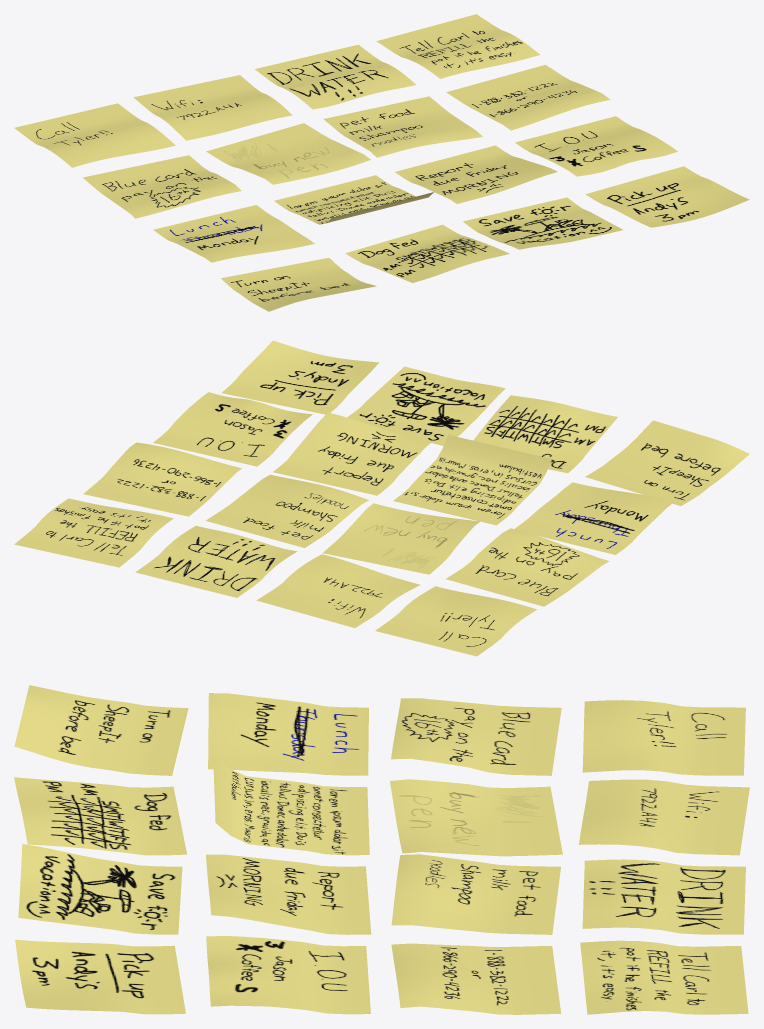
Rendered from stickynote.gltf.
3 views of the same model, one above another, from view 1: azimuth 30°, elevation 25°; view 2: azimuth 150°, elevation 25°; view 3: azimuth 270°, elevation 25° (orthographic). The views are drawn at different scales.
Parts seen in each view (by area): view 1: StickyNote.013, StickyNote.015, StickyNote.012, StickyNote.014, StickyNote.011, StickyNote.003, StickyNote.009, StickyNote.008, StickyNote.010, StickyNote.007, StickyNote.004, StickyNote.006 (+4 smaller); view 2: StickyNote.005, StickyNote, StickyNote.006, StickyNote.002, StickyNote.008, StickyNote.011, StickyNote.007, StickyNote.010, StickyNote.004, StickyNote.003, StickyNote.009, StickyNote.014 (+4 smaller); view 3: StickyNote.004, StickyNote.009, StickyNote.010, StickyNote.002, StickyNote.015, StickyNote.012, StickyNote.014, StickyNote, StickyNote.007, StickyNote.003, StickyNote.013, StickyNote.001 (+4 smaller).
Boxes of the visible parts, x1,y1,x2,y2 form: StickyNote.013: (133, 75, 292, 140); StickyNote.015: (376, 14, 540, 78); StickyNote.012: (14, 103, 175, 167); StickyNote.014: (255, 44, 416, 109); StickyNote.011: (446, 65, 610, 130); StickyNote.003: (585, 166, 749, 227); StickyNote.009: (206, 123, 370, 184); StickyNote.008: (82, 155, 241, 218); StickyNote.010: (323, 96, 482, 157); StickyNote.007: (515, 116, 677, 176); StickyNote.004: (153, 205, 314, 262); StickyNote.006: (395, 145, 557, 203); StickyNote.005: (393, 434, 551, 525); StickyNote: (585, 420, 749, 505); StickyNote.006: (273, 412, 432, 495); StickyNote.002: (347, 366, 505, 445); StickyNote.008: (446, 528, 609, 606); StickyNote.011: (83, 442, 241, 516); StickyNote.007: (153, 392, 312, 466); StickyNote.010: (205, 474, 368, 547); StickyNote.004: (514, 482, 674, 554); StickyNote.003: (221, 340, 379, 414); StickyNote.009: (322, 503, 479, 574); StickyNote.014: (135, 526, 297, 597); StickyNote.004: (208, 693, 368, 775); StickyNote.009: (390, 779, 562, 856); StickyNote.010: (391, 854, 560, 934); StickyNote.002: (18, 844, 182, 934); StickyNote.015: (580, 940, 748, 1014); StickyNote.012: (582, 700, 745, 775); StickyNote.014: (582, 859, 745, 934); StickyNote: (14, 685, 188, 775); StickyNote.007: (206, 936, 370, 1014); StickyNote.003: (15, 939, 185, 1014); StickyNote.013: (579, 779, 749, 855); StickyNote.001: (14, 777, 187, 855).
Bounding box in the file's own units: 0.3546 × 0.0173 × 0.3477.
1 material, 1 textured.
